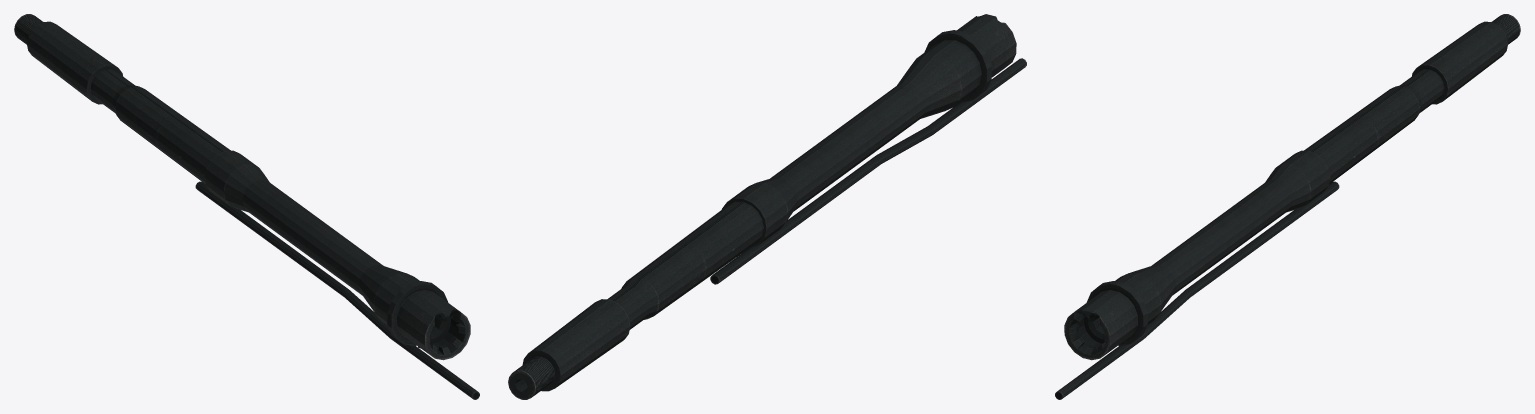
The picture shows the model from 3 angles, left to right: view 1: azimuth 30°, elevation 25°; view 2: azimuth 150°, elevation 25°; view 3: azimuth 330°, elevation 25°; orthographic projection. The views are drawn at different scales.
Parts seen in each view (by area): view 1: TW_55d3632e4bdc2d972f8b4569_PZ_Import; view 2: TW_55d3632e4bdc2d972f8b4569_PZ_Import; view 3: TW_55d3632e4bdc2d972f8b4569_PZ_Import.
Boxes of the visible parts, x1,y1,x2,y2 form: TW_55d3632e4bdc2d972f8b4569_PZ_Import: [14, 14, 479, 399]; TW_55d3632e4bdc2d972f8b4569_PZ_Import: [508, 14, 1026, 399]; TW_55d3632e4bdc2d972f8b4569_PZ_Import: [1055, 14, 1520, 399].
Size of the model in its own units: 0.0171 by 0.2341 by 0.0213.
Materials: 1 (1 with a texture image).
